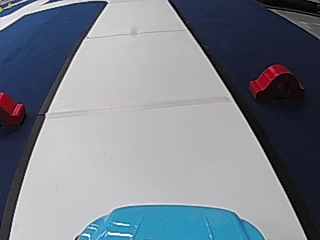bridge: (245, 61, 304, 101), (0, 91, 28, 128)
